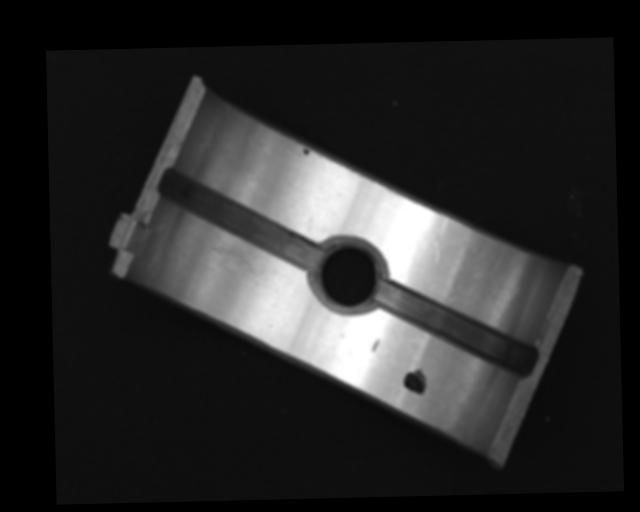blot: (402, 368, 427, 396), (301, 146, 311, 157)
bruise: (429, 215, 451, 265), (372, 338, 381, 354)
gap: (158, 166, 322, 272), (376, 279, 536, 379)
hole: (311, 236, 384, 315)
scratch: (190, 238, 275, 289)
